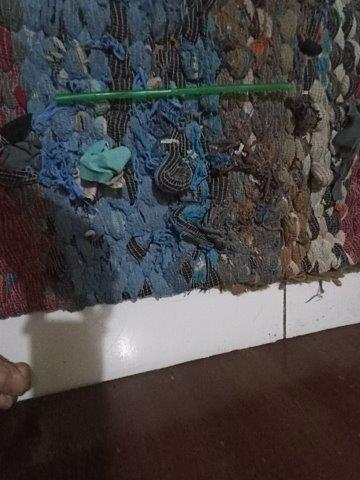sedotan: (56, 83, 290, 104)
